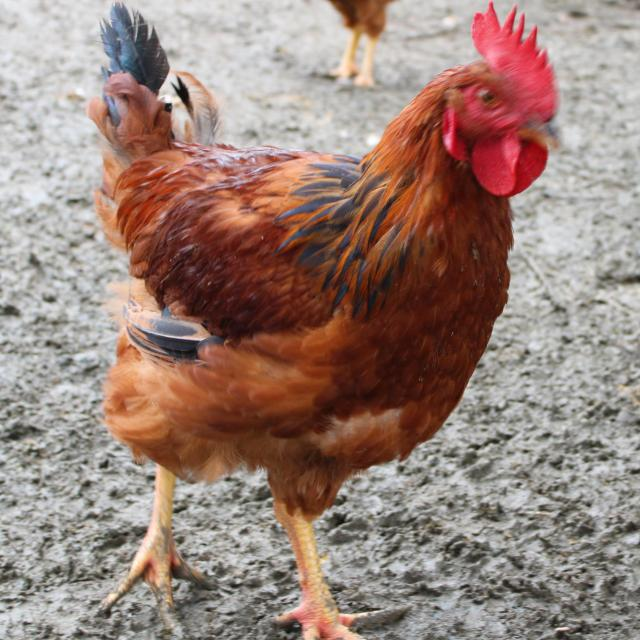cook: (88, 4, 558, 640)
